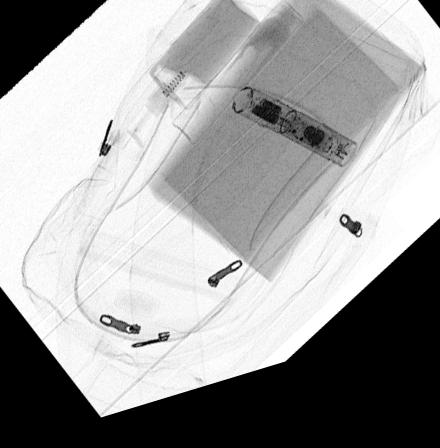Baton: (230, 99, 357, 187)
